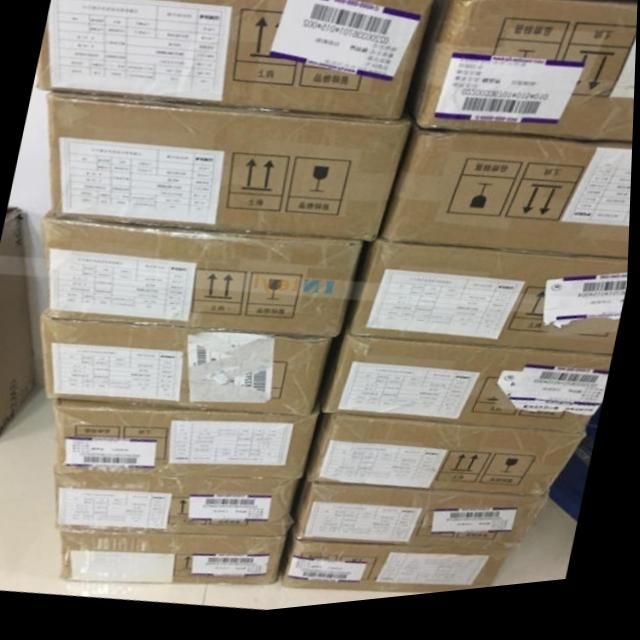box: (48, 91, 413, 250), (38, 0, 436, 128), (42, 216, 363, 344), (348, 241, 631, 369), (381, 128, 634, 271), (408, 0, 638, 156), (43, 311, 332, 422), (322, 337, 615, 445), (307, 420, 590, 508), (57, 401, 321, 487), (292, 485, 551, 561), (59, 475, 302, 542), (284, 539, 516, 602), (62, 531, 289, 592), (0, 205, 40, 437)
